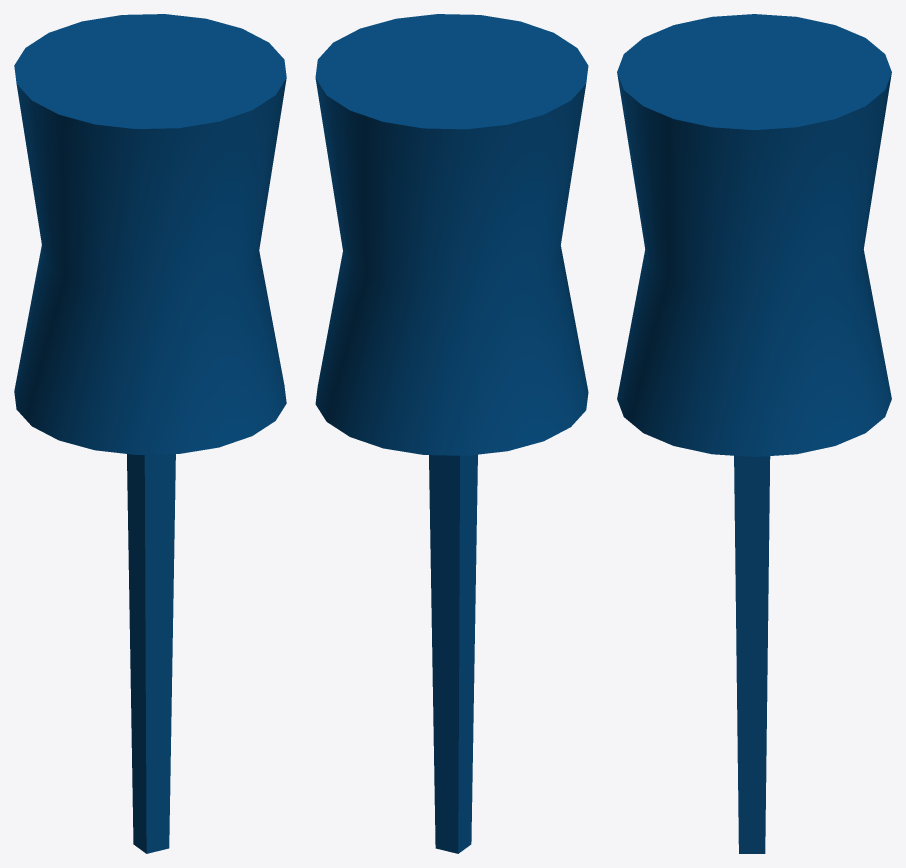
Rendered from Pin_01.fbx.
3 renders of one model, left to right at view 1: azimuth 30°, elevation 25°; view 2: azimuth 150°, elevation 25°; view 3: azimuth 270°, elevation 25°, orthographic.
Visible parts, largest first — view 1: Pin_01; view 2: Pin_01; view 3: Pin_01.
Part boxes in pixels (x1,y1,x2,y2): Pin_01: [14, 14, 286, 853]; Pin_01: [315, 14, 588, 853]; Pin_01: [617, 14, 891, 853].
Bounding box in the file's own units: 1.8 × 5.62 × 1.8.
